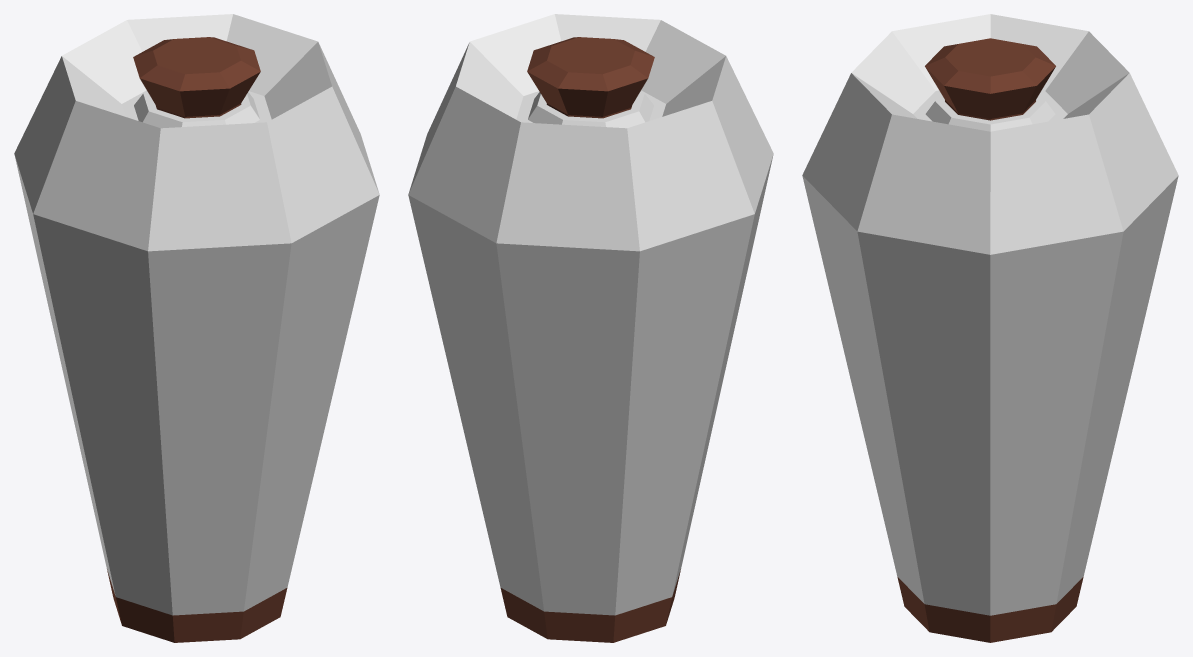
The model's file is Pot_Legendary.fbx.
The picture shows the model from 3 angles, left to right: view 1: azimuth 30°, elevation 25°; view 2: azimuth 150°, elevation 25°; view 3: azimuth 270°, elevation 25°; orthographic projection.
Visible parts, largest first — view 1: Pot_Leg; view 2: Pot_Leg; view 3: Pot_Leg.
Boxes of the visible parts, x1=… form: Pot_Leg: x1=14, y1=14, x2=379, y2=642; Pot_Leg: x1=408, y1=14, x2=773, y2=642; Pot_Leg: x1=802, y1=14, x2=1178, y2=642.
Size of the model in its own units: 30.59 by 49.24 by 30.59.
